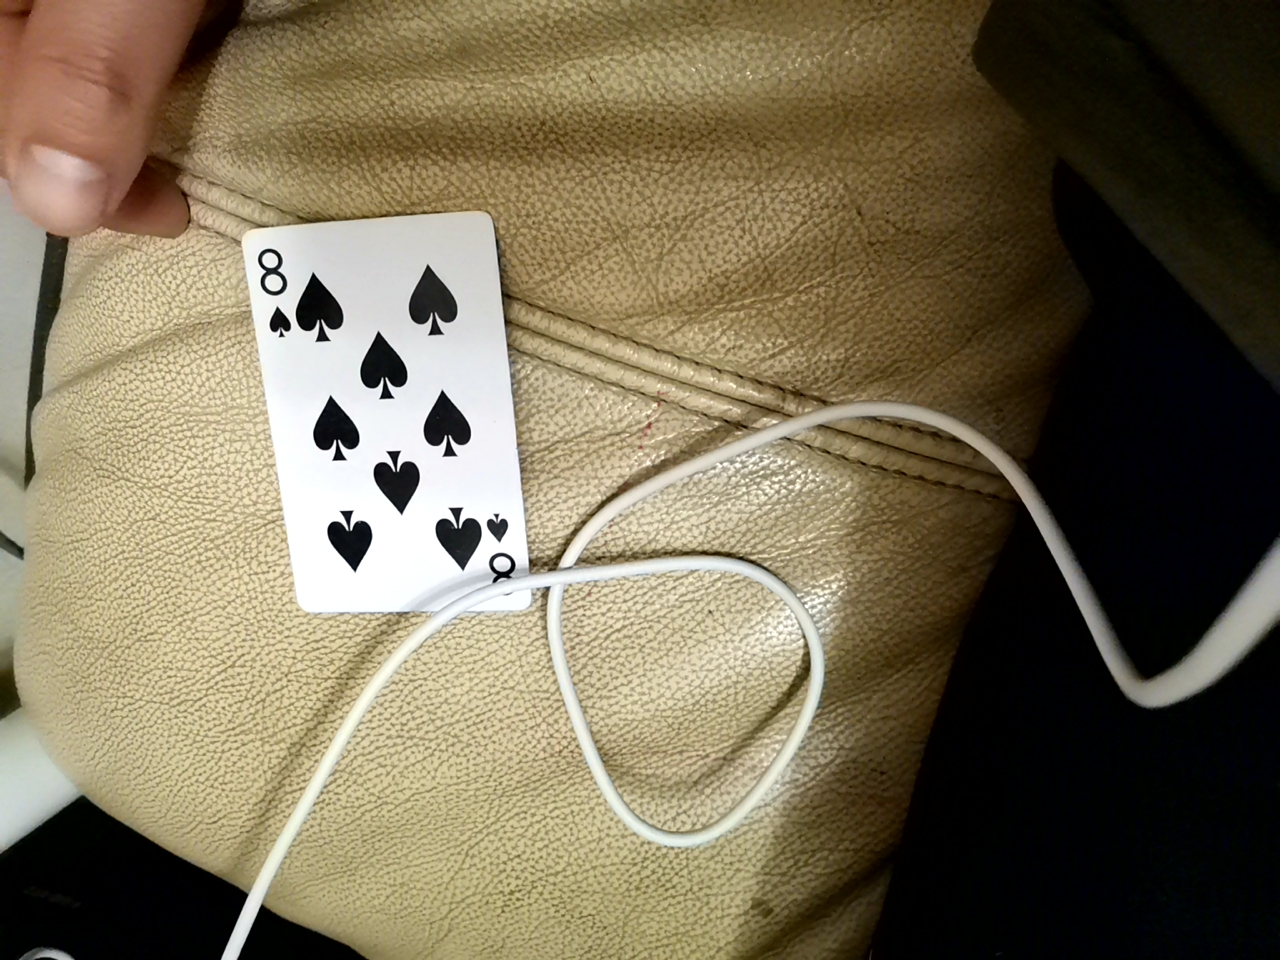ht 8: (244, 195, 542, 632)
